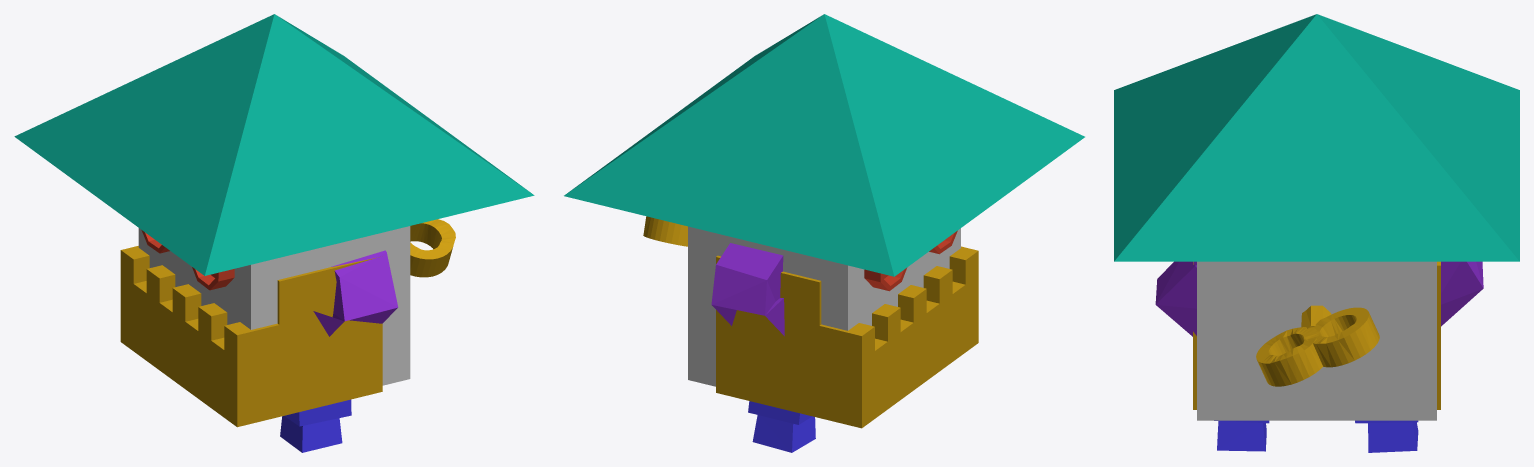
Rendered from character.obj.
3 renders of one model, left to right at view 1: azimuth 30°, elevation 25°; view 2: azimuth 150°, elevation 25°; view 3: azimuth 270°, elevation 25°, orthographic. The views are drawn at different scales.
Parts seen in each view (by area): view 1: Hat, Mouth, Creature, Left Hand, Right Foot.001, Corkscrew, Eyes; view 2: Hat, Mouth, Creature, Right Hand, Right Foot, Corkscrew, Eyes; view 3: Hat, Creature, Corkscrew, Left Hand, Right Hand, Right Foot, Right Foot.001, Mouth.
Part boxes in pixels (x1,y1,x2,y2): Hat: (14, 14, 534, 275); Mouth: (120, 246, 382, 427); Creature: (138, 226, 410, 385); Left Hand: (313, 250, 398, 336); Right Foot.001: (280, 399, 351, 452); Corkscrew: (410, 219, 455, 277); Eyes: (141, 230, 234, 290); Hat: (564, 14, 1084, 276); Mouth: (716, 246, 978, 428); Creature: (688, 226, 960, 386); Right Hand: (711, 243, 784, 336); Right Foot: (748, 401, 815, 452); Corkscrew: (643, 216, 687, 246); Eyes: (864, 230, 957, 291); Hat: (1114, 14, 1519, 261); Creature: (1197, 261, 1436, 420); Corkscrew: (1256, 305, 1379, 386); Left Hand: (1155, 261, 1196, 336); Right Hand: (1441, 261, 1483, 326); Right Foot: (1355, 420, 1418, 452); Right Foot.001: (1214, 420, 1269, 451); Mouth: (1193, 261, 1440, 409).
Bounding box in the file's own units: 3.12 × 3.63 × 3.12.
